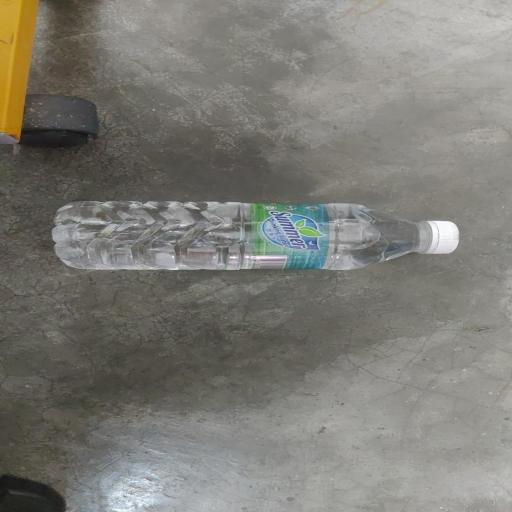plastic bottle: (54, 201, 432, 270)
plastic bottle cap: (422, 218, 464, 256)
